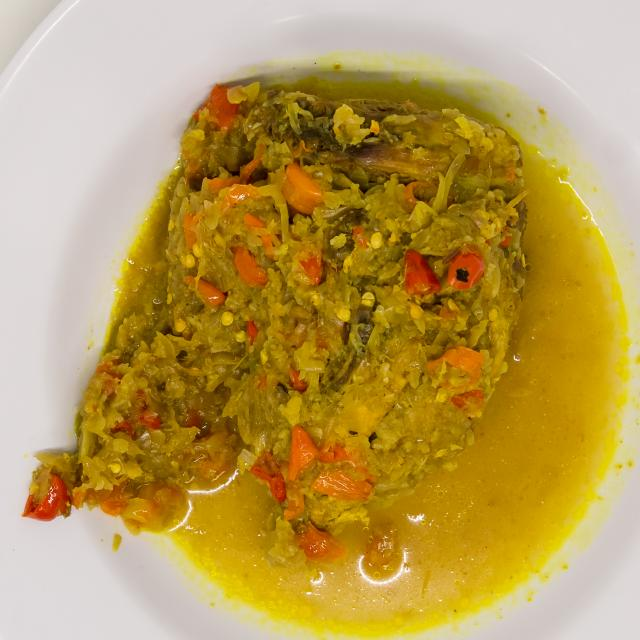Ayam-Betutu: (40, 58, 542, 590)
